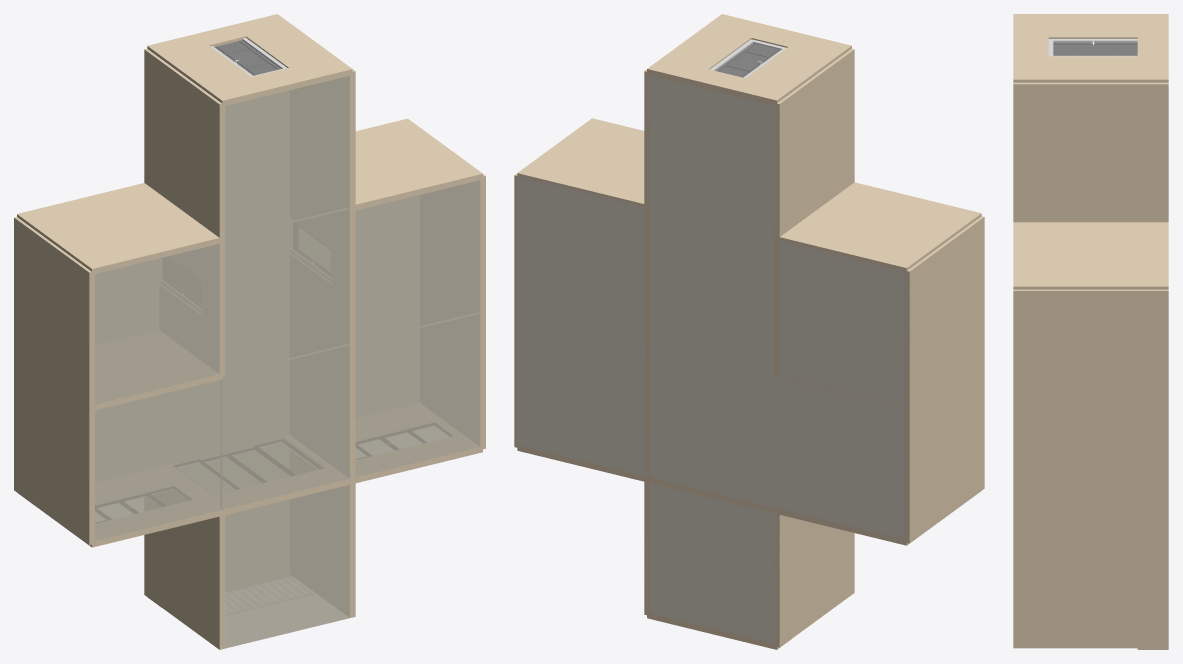
The model's file is Neighbour03.gltf.
3 views of the same model, side by side, from view 1: azimuth 30°, elevation 25°; view 2: azimuth 150°, elevation 25°; view 3: azimuth 270°, elevation 25° (orthographic). The views are drawn at different scales.
Visible parts, largest first — view 1: ceiling_2, ceiling_1, ceiling_6, ceiling_5, ceiling_3, ceiling, ceiling_7, ceiling_4, wall_3, wall, wall_2, wall_4 (+15 smaller); view 2: floor_5, floor_4, floor, floor_3, floor_6, floor_2, floor_1, floor_7, wall_3, wall_2, wall, wall_4 (+13 smaller); view 3: wall_5, wall_1, wall_7, wall_9, wall_6, SIP, Door, DoorFrame, SIP_5.
Boxes of the visible parts, x1=… form: ceiling_2: x1=222, y1=345, x2=349, y2=509; ceiling_1: x1=225, y1=209, x2=349, y2=375; ceiling_6: x1=355, y1=313, x2=480, y2=477; ceiling_5: x1=355, y1=180, x2=480, y2=343; ceiling_3: x1=95, y1=379, x2=222, y2=540; ceiling: x1=225, y1=75, x2=349, y2=239; ceiling_7: x1=225, y1=485, x2=349, y2=648; ceiling_4: x1=95, y1=244, x2=219, y2=404; wall_3: x1=14, y1=217, x2=94, y2=408; wall: x1=144, y1=49, x2=225, y2=240; wall_2: x1=14, y1=354, x2=94, y2=545; wall_4: x1=17, y1=183, x2=222, y2=274; floor_5: x1=517, y1=176, x2=644, y2=342; floor_4: x1=779, y1=240, x2=906, y2=406; floor: x1=647, y1=75, x2=776, y2=239; floor_3: x1=777, y1=375, x2=906, y2=539; floor_6: x1=517, y1=312, x2=646, y2=475; floor_2: x1=647, y1=344, x2=776, y2=507; floor_1: x1=650, y1=208, x2=773, y2=374; floor_7: x1=647, y1=483, x2=776, y2=643; wall_3: x1=904, y1=216, x2=984, y2=407; wall_2: x1=904, y1=353, x2=984, y2=543; wall: x1=774, y1=48, x2=854, y2=239; wall_4: x1=777, y1=182, x2=981, y2=272; wall_5: x1=1013, y1=289, x2=1168, y2=431; wall_1: x1=1013, y1=82, x2=1168, y2=222; wall_7: x1=1013, y1=432, x2=1168, y2=572; wall_9: x1=1013, y1=574, x2=1168, y2=648; wall_6: x1=1013, y1=222, x2=1168, y2=289; SIP: x1=1013, y1=14, x2=1168, y2=82; Door: x1=1053, y1=42, x2=1137, y2=55; DoorFrame: x1=1048, y1=39, x2=1137, y2=56; SIP_5: x1=1013, y1=573, x2=1168, y2=574.
Size of the model in its own units: 10.65 by 14.15 by 3.5.
